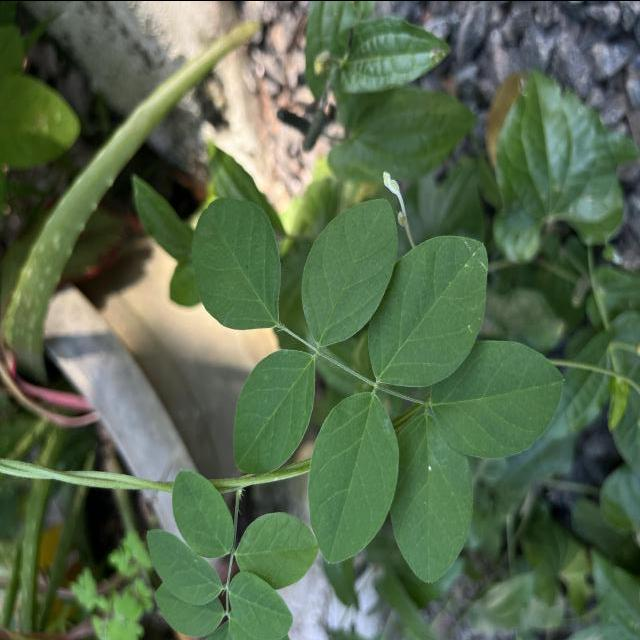Clitoria ternatea: (366, 232, 491, 388), (307, 388, 401, 564), (430, 338, 566, 459), (300, 195, 400, 348), (388, 410, 474, 584), (190, 196, 283, 331), (232, 346, 316, 476), (235, 510, 320, 589), (172, 468, 236, 558), (228, 570, 294, 640)
